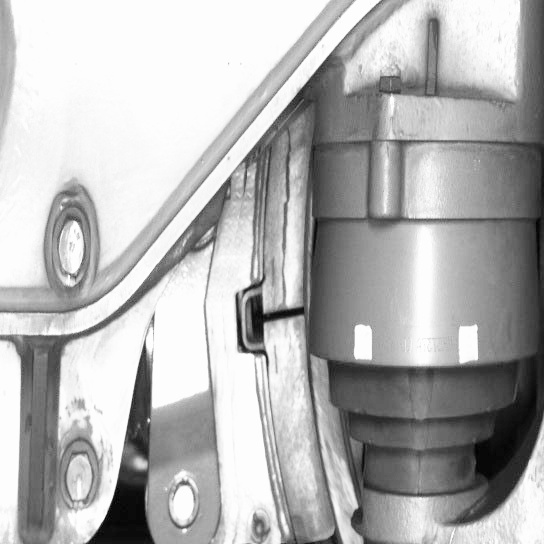ClosedKnifeSwitch: (251, 141, 348, 540)
